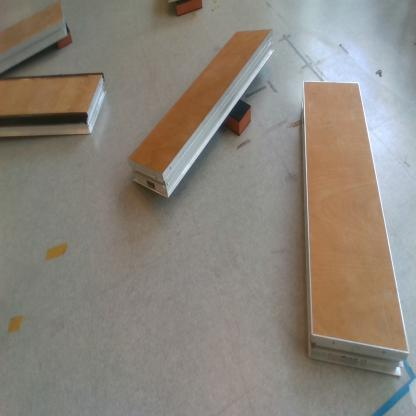Stairs: (303, 81, 413, 381), (130, 30, 275, 199), (1, 75, 109, 137), (1, 3, 69, 77)
